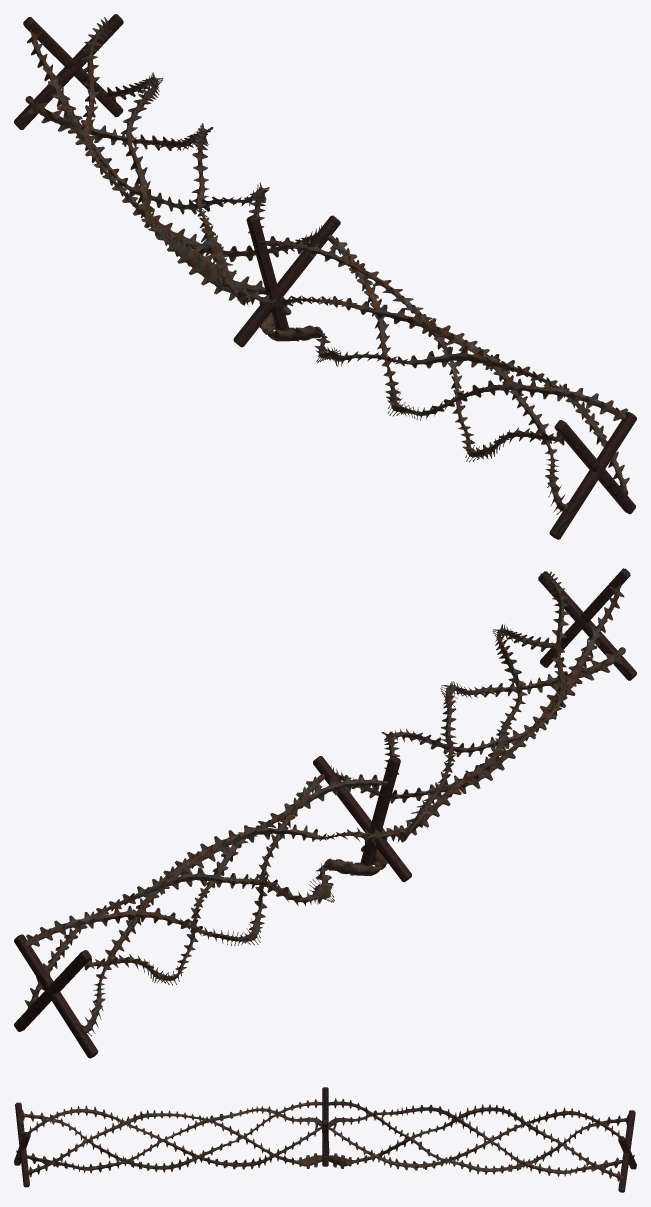
The model's file is barbwire2.obj.
3 views of the same model, one above another, from view 1: azimuth 30°, elevation 25°; view 2: azimuth 150°, elevation 25°; view 3: azimuth 270°, elevation 25° (orthographic). The views are drawn at different scales.
Parts seen in each view (by area): view 1: Layer 0; view 2: Layer 0; view 3: Layer 0.
Part boxes in pixels (left/top/right/bottom): Layer 0: left=14, top=14, right=636, bottom=539; Layer 0: left=14, top=568, right=636, bottom=1058; Layer 0: left=14, top=1087, right=636, bottom=1192.
Bounding box in the file's own units: 1.19 × 0.9126 × 7.26.
Materials: 2 (2 with a texture image).
